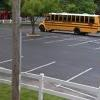Bus: (36, 8, 100, 38)
